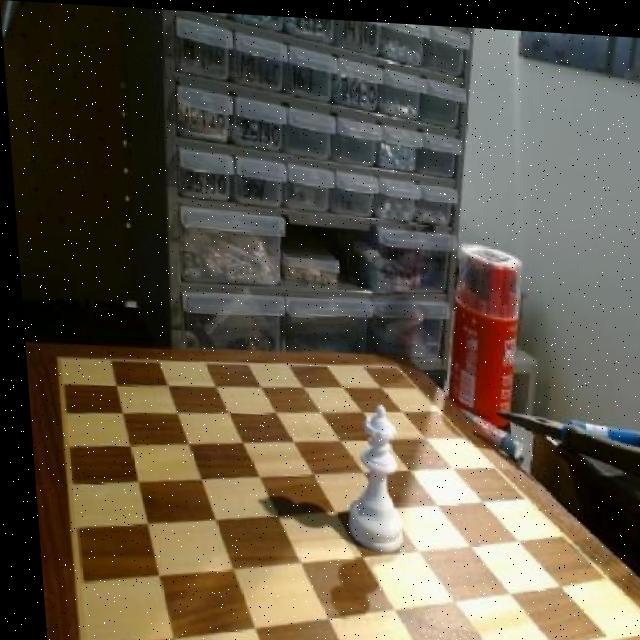white-pawn: (333, 396, 407, 552)
